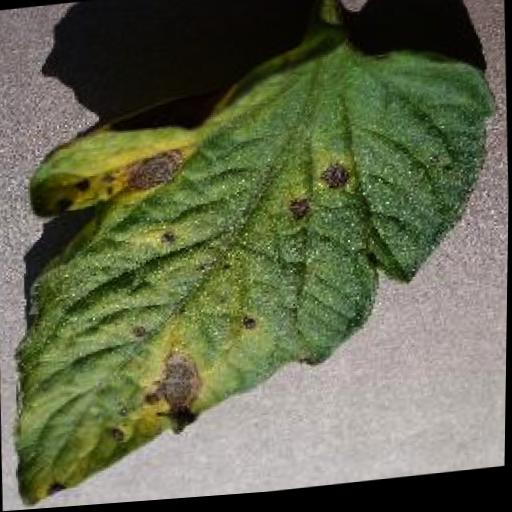Early Blight: (1, 14, 508, 511)
